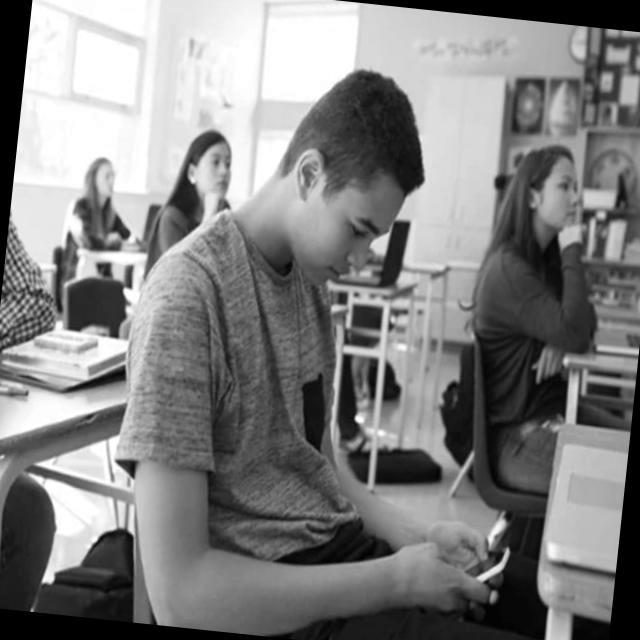phone: (462, 542, 511, 586)
